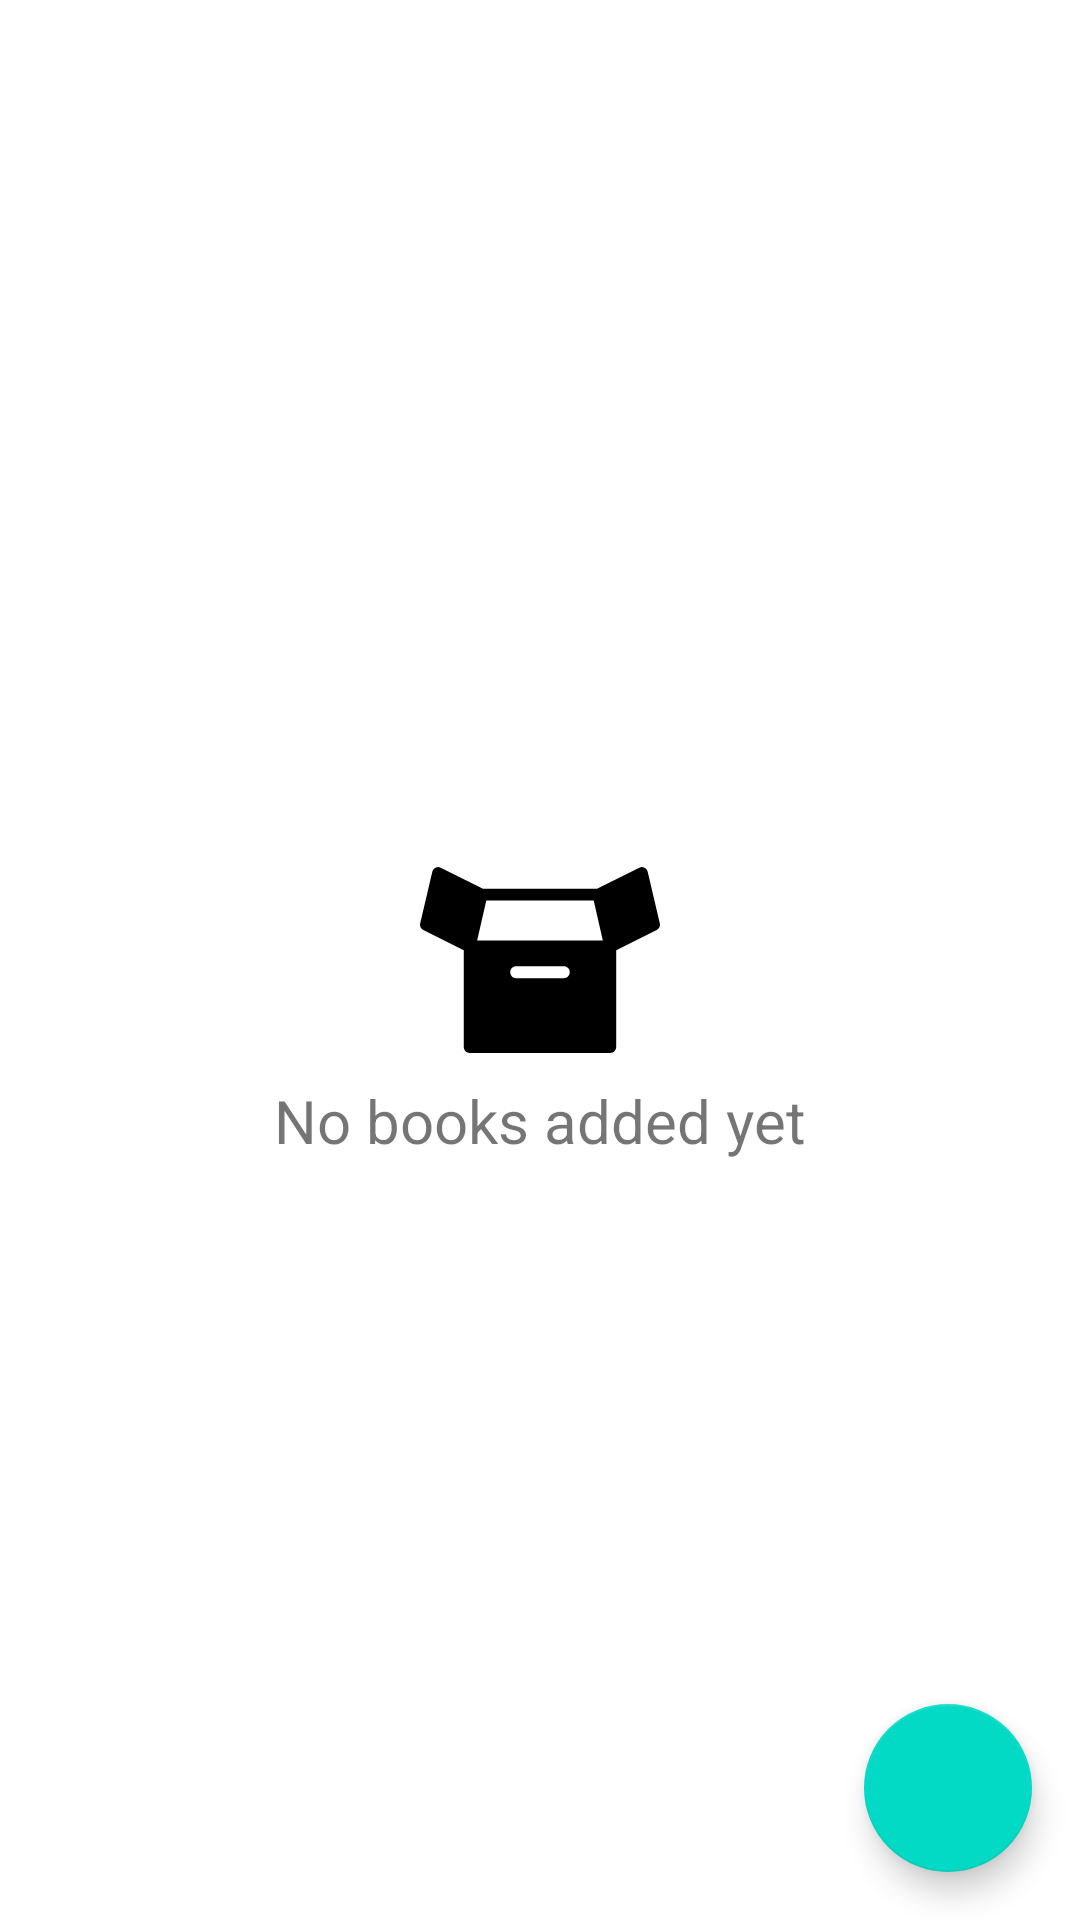

Where icons sit on this 1080w x 1920h app screen, as (x1, y1, x2, y2):
This is an icon indicating that there are no data: (420, 867, 660, 1053)
